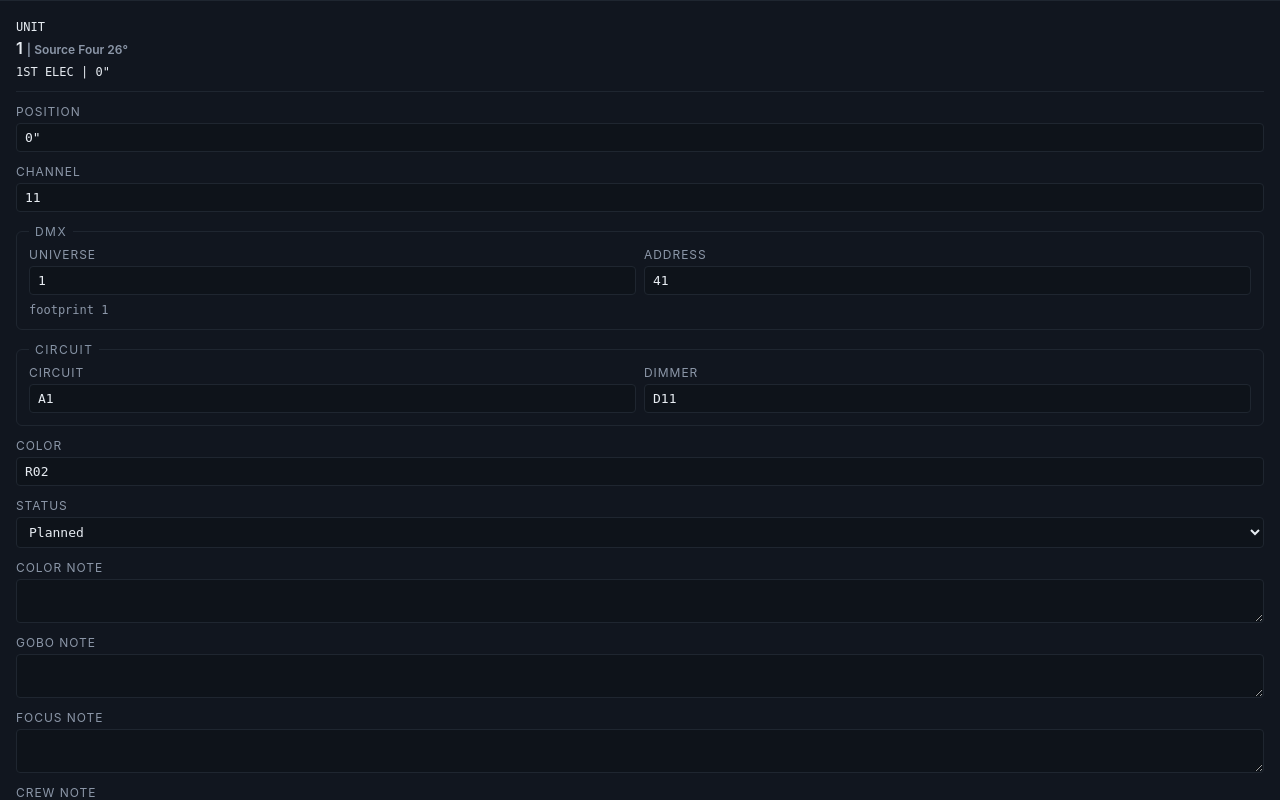
Test: Inspector › reverts an invalid field on blur
Replace the text in the field labelled "Position" with "downstage a bit" at (640, 138), box [16, 123, 1264, 152]
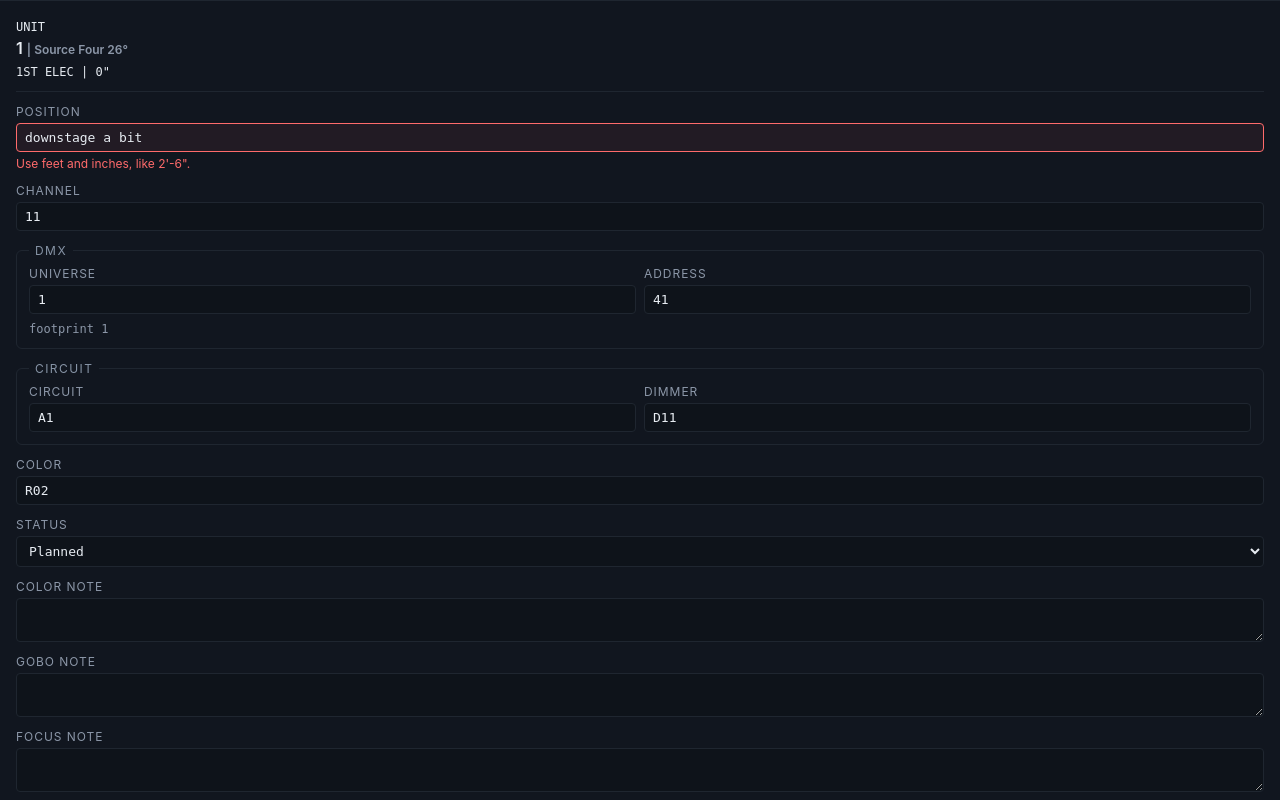
Leave the field labelled "Position", box [16, 123, 1264, 152]
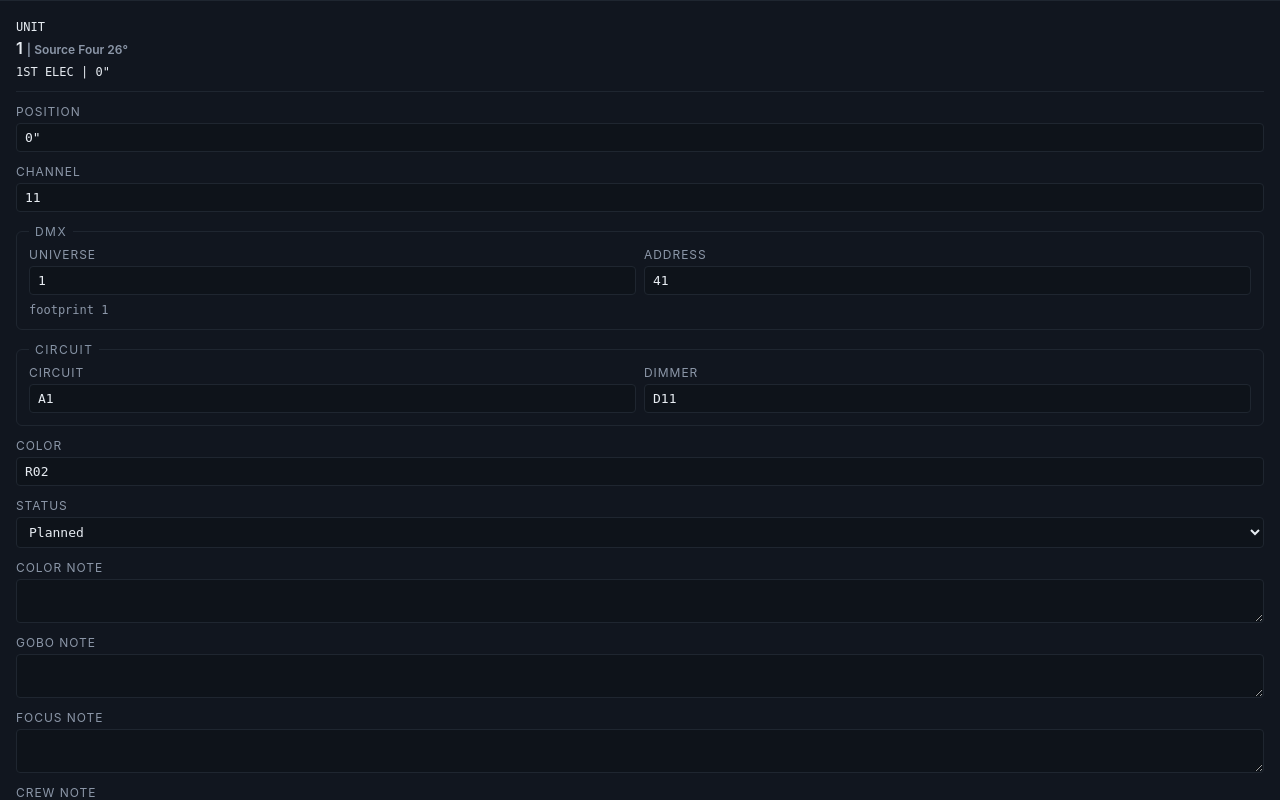
Result: the field labelled "Position" holds "0\"" at [16, 123, 1264, 152]
